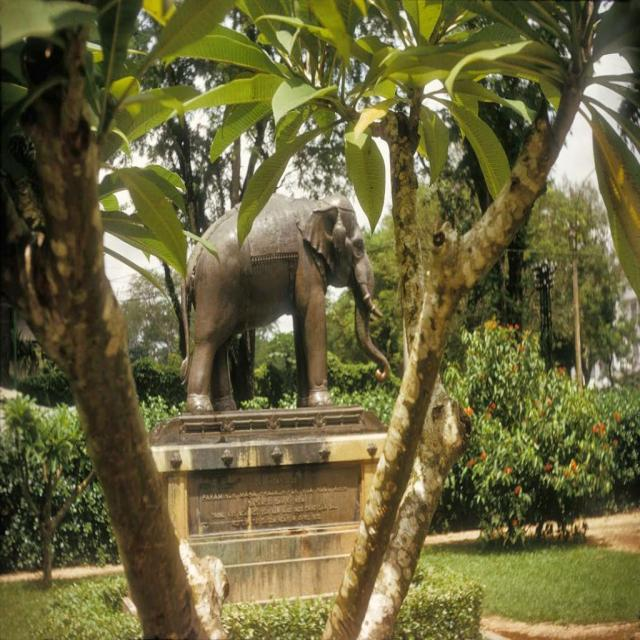elephant: (162, 172, 392, 412)
